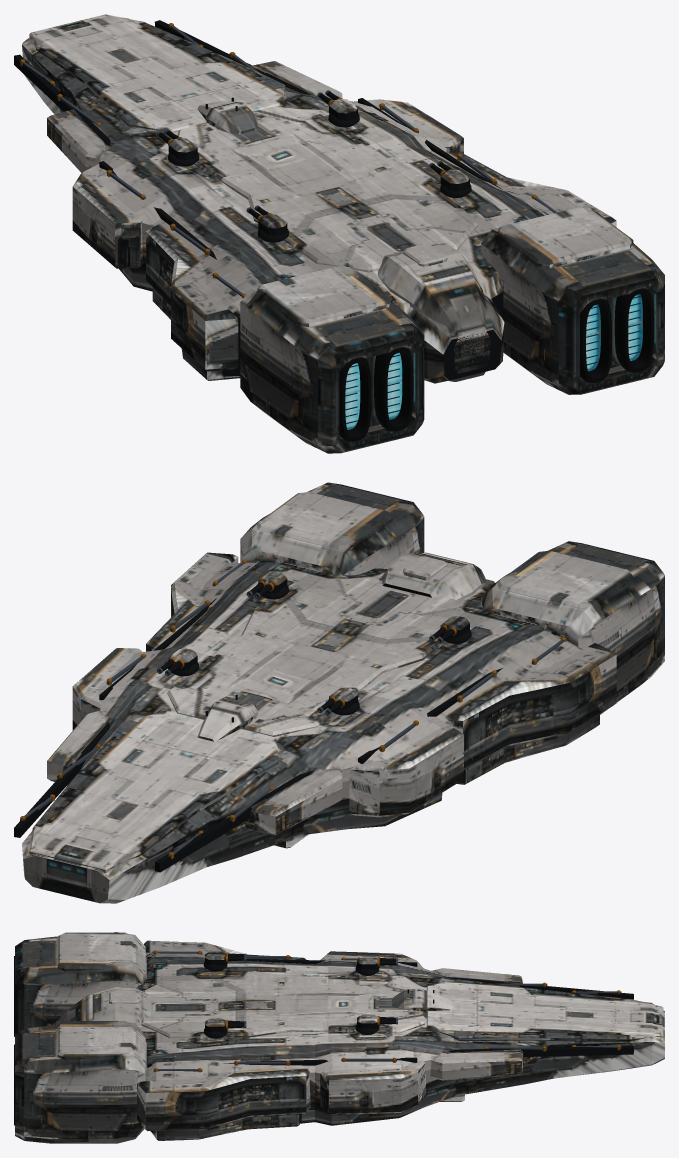
Rendered from titan.obj.
3 renders of one model, top to bottom at view 1: azimuth 30°, elevation 25°; view 2: azimuth 150°, elevation 25°; view 3: azimuth 270°, elevation 25°, orthographic. The views are drawn at different scales.
Visible parts, largest first — view 1: hull_|_continuous_armored_pressure_body, deck_|_aft_central_armor_terrace, engineblock.port_|_hollow_armored_housing, engineblock.starboard_|_hollow_armored_housing, deck_|_central_foredeck_armor, armor.port_|_aft_stepped_shoulder, stern_|_central_service_fairing, engineblock.starboard_|_dorsal_armor_lid, engineblock.port_|_dorsal_armor_lid, armor.port_|_broad_mid_shoulder, armor.port_|_forward_shelf, engine.starboard.2_|_layered_nozzle_jacket (+15 smaller); view 2: hull_|_continuous_armored_pressure_body, deck_|_central_foredeck_armor, deck_|_aft_central_armor_terrace, engineblock.port_|_hollow_armored_housing, armor.port_|_aft_stepped_shoulder, engineblock.starboard_|_hollow_armored_housing, armor.port_|_broad_mid_shoulder, engineblock.port_|_dorsal_armor_lid, engineblock.starboard_|_dorsal_armor_lid, armor.port_|_forward_shelf, stern_|_central_service_fairing, armor.starboard_|_aft_stepped_shoulder (+7 smaller); view 3: hull_|_continuous_armored_pressure_body, engineblock.starboard_|_hollow_armored_housing, deck_|_aft_central_armor_terrace, deck_|_central_foredeck_armor, armor.starboard_|_aft_stepped_shoulder, engineblock.port_|_hollow_armored_housing, armor.starboard_|_broad_mid_shoulder, engineblock.port_|_dorsal_armor_lid, engineblock.starboard_|_dorsal_armor_lid, armor.starboard_|_forward_shelf, stern_|_central_service_fairing, armor.starboard_|_lower_shoulder_flange (+9 smaller).
Boxes of the visible parts, bbox=[...] form: hull_|_continuous_armored_pressure_body: bbox=[22, 16, 565, 383]; deck_|_aft_central_armor_terrace: bbox=[177, 106, 478, 272]; engineblock.port_|_hollow_armored_housing: bbox=[240, 265, 424, 453]; engineblock.starboard_|_hollow_armored_housing: bbox=[481, 207, 664, 394]; deck_|_central_foredeck_armor: bbox=[29, 14, 285, 132]; armor.port_|_aft_stepped_shoulder: bbox=[146, 224, 238, 371]; stern_|_central_service_fairing: bbox=[377, 243, 490, 373]; engineblock.starboard_|_dorsal_armor_lid: bbox=[496, 207, 633, 268]; engineblock.port_|_dorsal_armor_lid: bbox=[255, 266, 392, 326]; armor.port_|_broad_mid_shoulder: bbox=[72, 164, 143, 268]; armor.port_|_forward_shelf: bbox=[47, 109, 104, 172]; engine.starboard.2_|_layered_nozzle_jacket: bbox=[614, 288, 654, 372]; hull_|_continuous_armored_pressure_body: bbox=[22, 562, 582, 903]; deck_|_central_foredeck_armor: bbox=[29, 710, 278, 873]; deck_|_aft_central_armor_terrace: bbox=[167, 578, 471, 736]; engineblock.port_|_hollow_armored_housing: bbox=[481, 541, 664, 714]; armor.port_|_aft_stepped_shoulder: bbox=[445, 643, 616, 769]; engineblock.starboard_|_hollow_armored_housing: bbox=[240, 482, 424, 575]; armor.port_|_broad_mid_shoulder: bbox=[349, 724, 463, 817]; engineblock.port_|_dorsal_armor_lid: bbox=[496, 550, 633, 608]; engineblock.starboard_|_dorsal_armor_lid: bbox=[255, 492, 392, 549]; armor.port_|_forward_shelf: bbox=[245, 767, 342, 835]; stern_|_central_service_fairing: bbox=[379, 552, 486, 600]; armor.starboard_|_aft_stepped_shoulder: bbox=[146, 552, 238, 651]; hull_|_continuous_armored_pressure_body: bbox=[53, 950, 664, 1132]; engineblock.starboard_|_hollow_armored_housing: bbox=[15, 1020, 145, 1143]; deck_|_aft_central_armor_terrace: bbox=[141, 971, 424, 1037]; deck_|_central_foredeck_armor: bbox=[426, 979, 663, 1041]; armor.starboard_|_aft_stepped_shoulder: bbox=[137, 1068, 310, 1130]; engineblock.port_|_hollow_armored_housing: bbox=[15, 932, 145, 1034]; armor.starboard_|_broad_mid_shoulder: bbox=[320, 1061, 425, 1114]; engineblock.port_|_dorsal_armor_lid: bbox=[57, 932, 133, 971]; engineblock.starboard_|_dorsal_armor_lid: bbox=[57, 1021, 133, 1060]; armor.starboard_|_forward_shelf: bbox=[430, 1049, 523, 1080]; stern_|_central_service_fairing: bbox=[53, 987, 150, 1025]; armor.starboard_|_lower_shoulder_flange: bbox=[151, 1114, 301, 1140].
Size of the model in its own units: 10.25 by 3.17 by 18.65.
7 materials, 2 textured.
